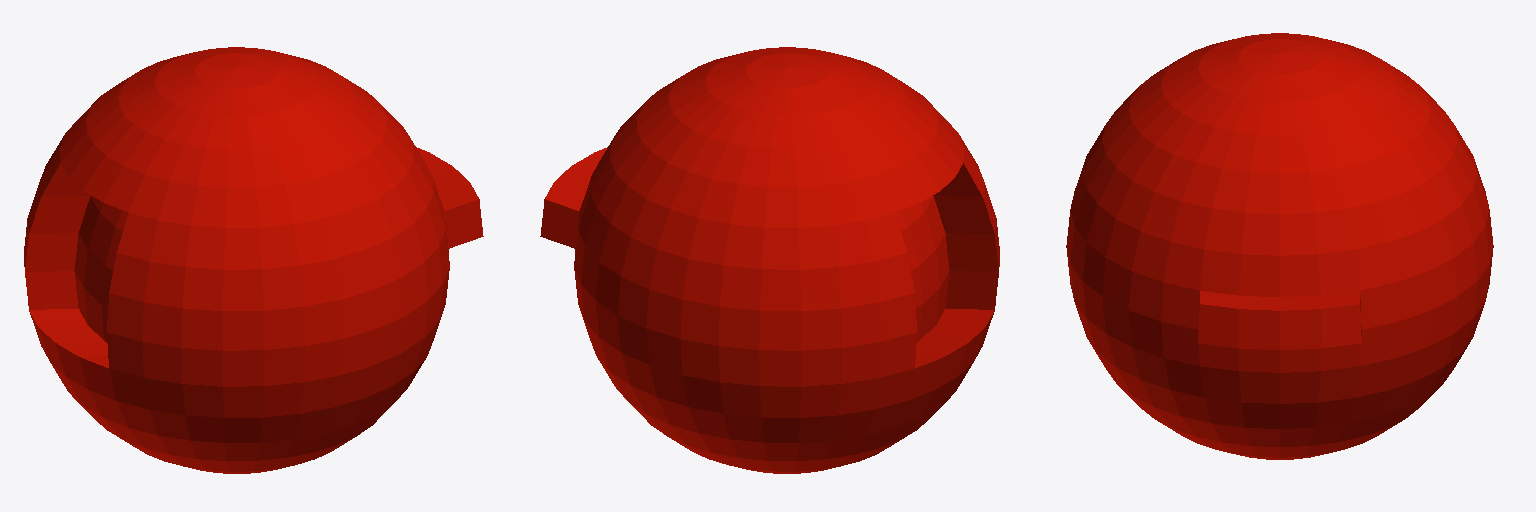
The model's file is player.obj.
3 views of the same model, side by side, from view 1: azimuth 30°, elevation 25°; view 2: azimuth 150°, elevation 25°; view 3: azimuth 270°, elevation 25° (orthographic).
Visible parts, largest first — view 1: Sphere_Sphere.001; view 2: Sphere_Sphere.001; view 3: Sphere_Sphere.001.
Boxes of the visible parts, x1=… form: Sphere_Sphere.001: x1=24, y1=47, x2=483, y2=473; Sphere_Sphere.001: x1=540, y1=47, x2=999, y2=473; Sphere_Sphere.001: x1=1066, y1=33, x2=1493, y2=459.
Bounding box in the file's own units: 0.434 × 0.4 × 0.4.